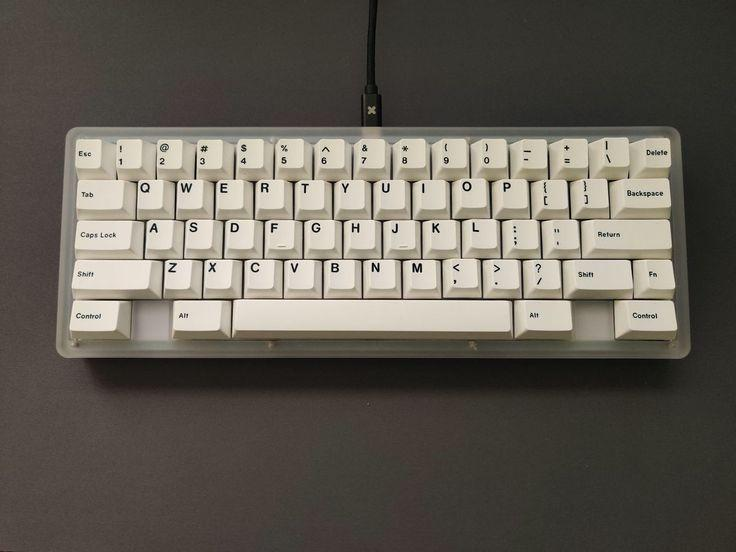keyboard: (55, 124, 691, 360)
